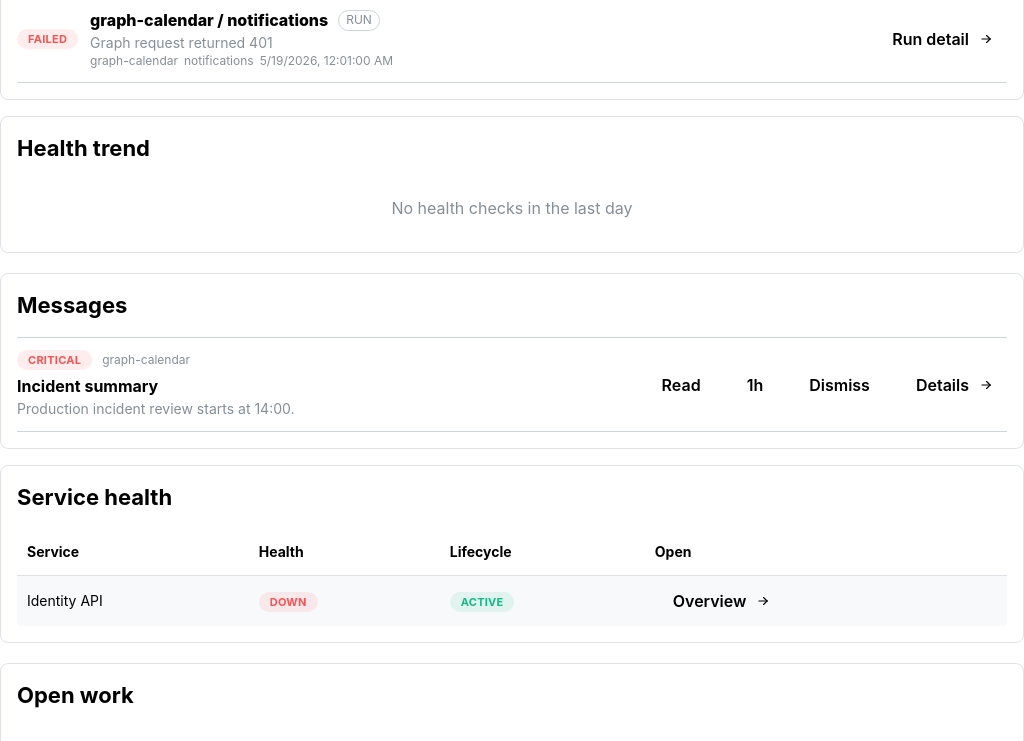
Test case: DashboardView daily workbench › snoozes a message for one hour and sends a backend-compatible timestamp
(page scrolled)
Click the button named "Snooze Incident summary for 1 hour".
click(755, 385)  # box x1=729 y1=372 x2=781 y2=398
(page scrolled)
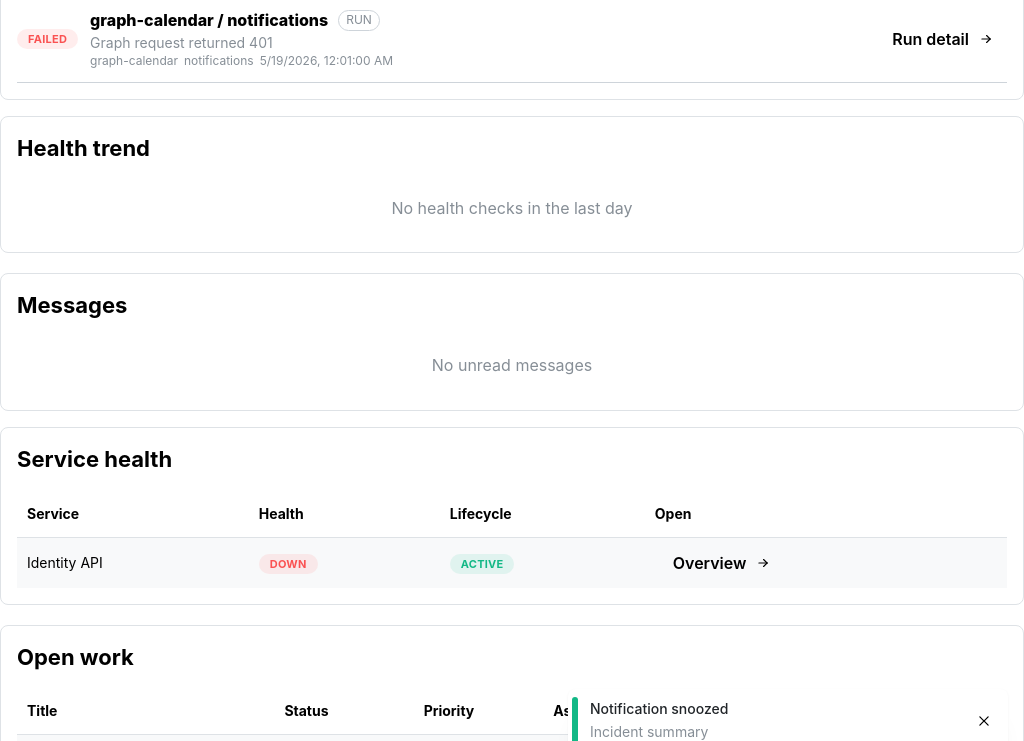
Result: the text "No unread messages" is shown at x1=432 y1=355 x2=592 y2=375
